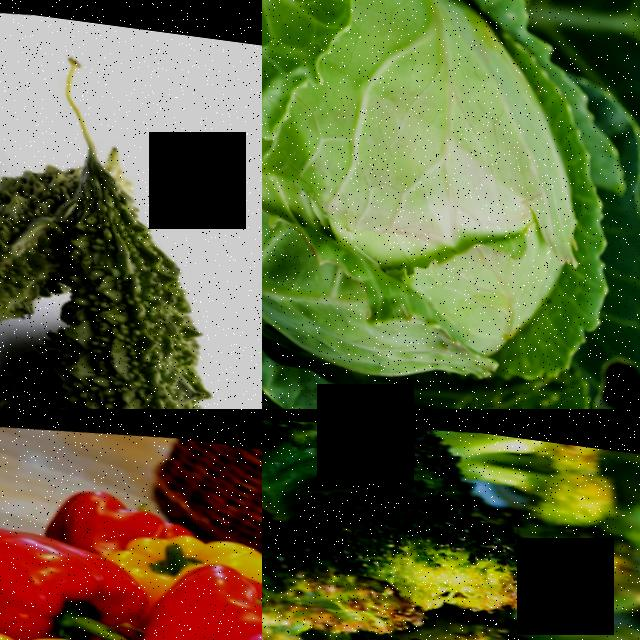bell pepper: (0, 502, 134, 639), (165, 546, 262, 640)
bitter gourd: (65, 145, 258, 409), (0, 147, 67, 354)
broccoli: (305, 440, 554, 599)
cabbage: (262, 0, 640, 409)
